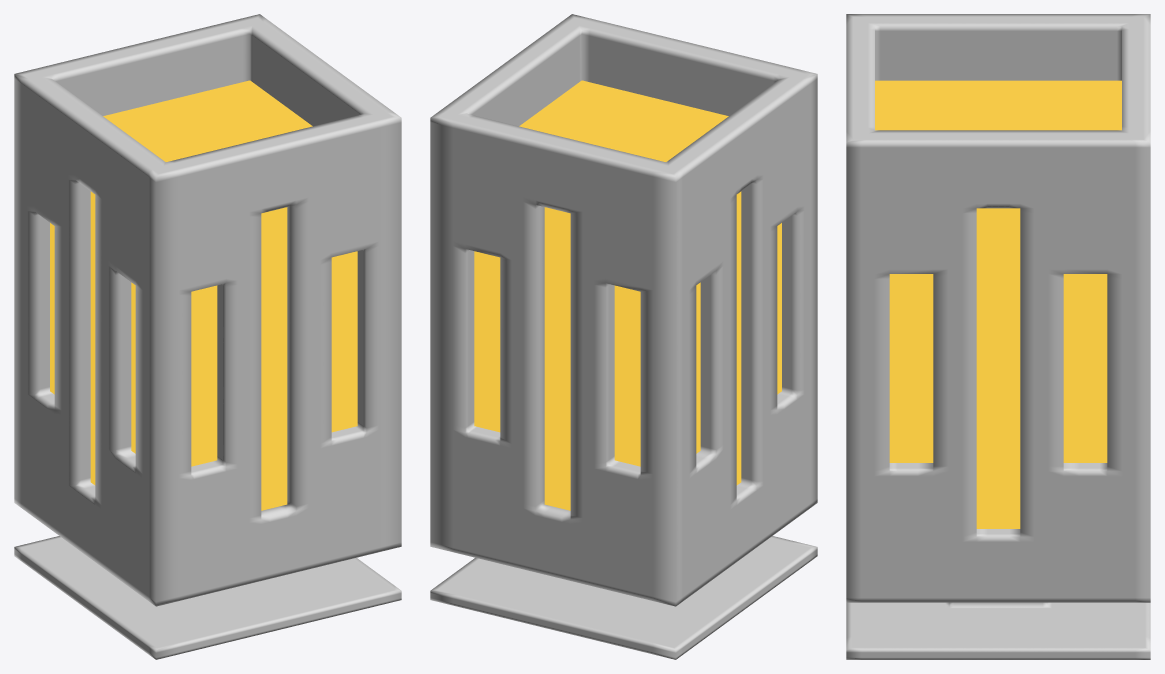
File: lamp.glb
The picture shows the model from 3 angles, left to right: view 1: azimuth 30°, elevation 25°; view 2: azimuth 150°, elevation 25°; view 3: azimuth 270°, elevation 25°; orthographic projection. The views are drawn at different scales.
Parts seen in each view (by area): view 1: Aesthetic Night Light, lampu; view 2: Aesthetic Night Light, lampu; view 3: Aesthetic Night Light, lampu.
Part boxes in pixels (x1,y1,x2,y2): Aesthetic Night Light: (14, 14, 401, 659); lampu: (50, 80, 357, 510); Aesthetic Night Light: (430, 14, 817, 659); lampu: (474, 80, 781, 510); Aesthetic Night Light: (846, 14, 1150, 659); lampu: (875, 80, 1121, 528).
Size of the model in its own units: 0.16 by 0.3 by 0.16.
